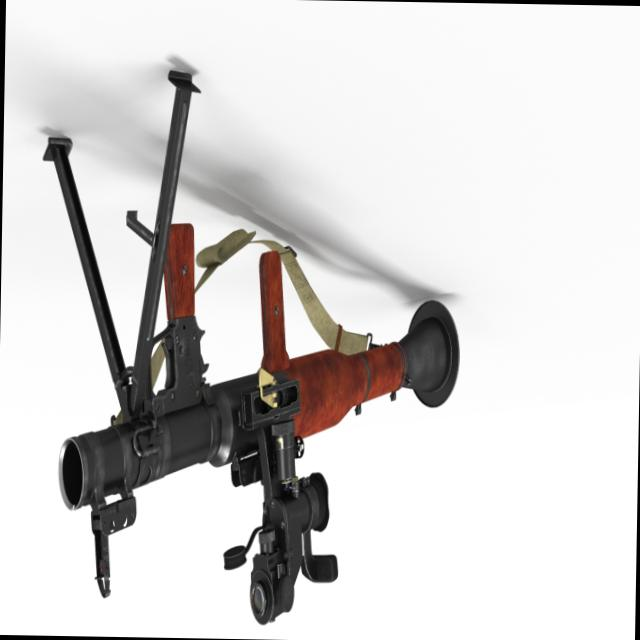Gun: (34, 55, 464, 640)
